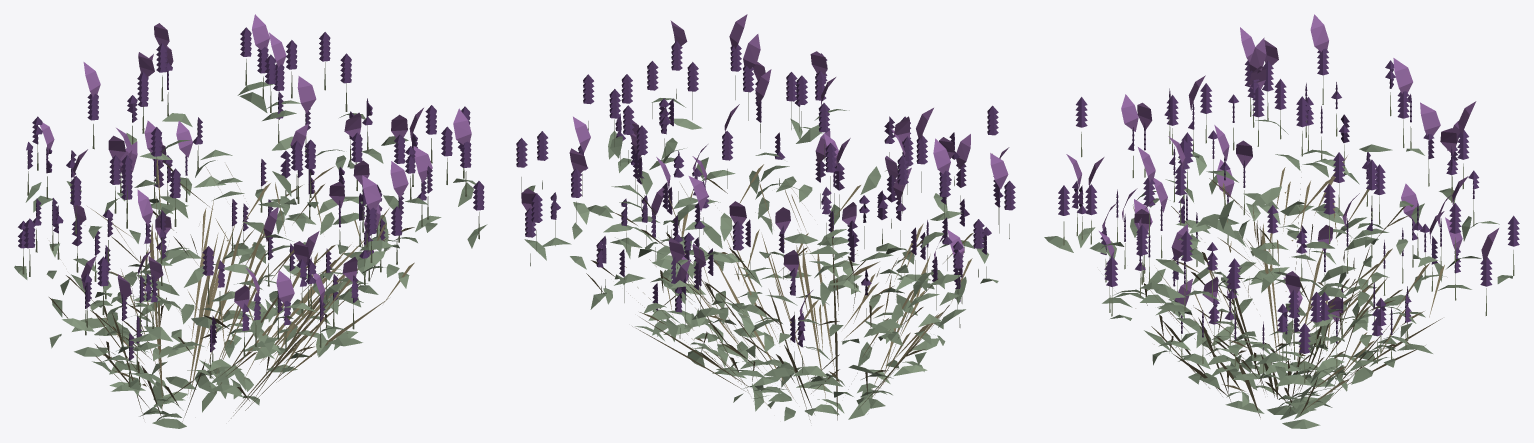
The model's file is Lavande_Incline_LOD2.fbx.
3 views of the same model, side by side, from view 1: azimuth 30°, elevation 25°; view 2: azimuth 150°, elevation 25°; view 3: azimuth 270°, elevation 25° (orthographic). The views are drawn at different scales.
Parts seen in each view (by area): view 1: Lavande_Incline_LOD2; view 2: Lavande_Incline_LOD2; view 3: Lavande_Incline_LOD2.
Part boxes in pixels (box(x1,y1,x2,y2)): Lavande_Incline_LOD2: box(14, 14, 487, 428); Lavande_Incline_LOD2: box(516, 14, 1015, 420); Lavande_Incline_LOD2: box(1044, 14, 1519, 428).
Bounding box in the file's own units: 80.24 × 61.13 × 70.3.
